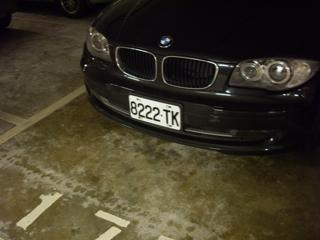plate: (127, 93, 184, 132)
